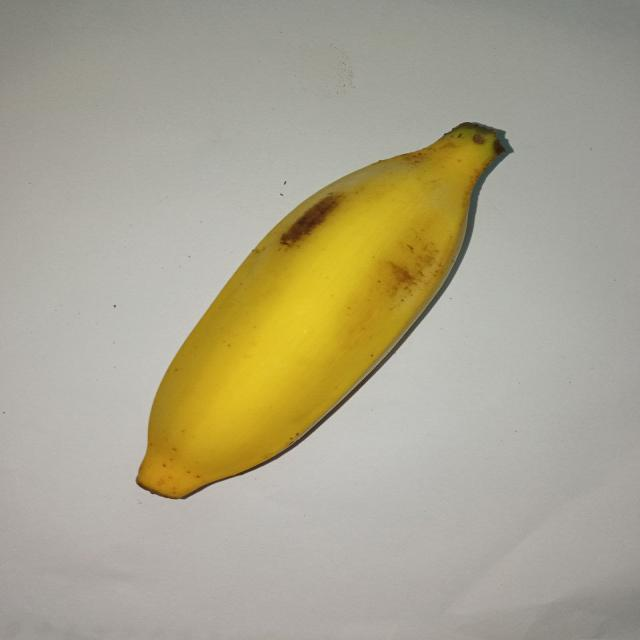fresh_banana: (137, 121, 505, 498)
